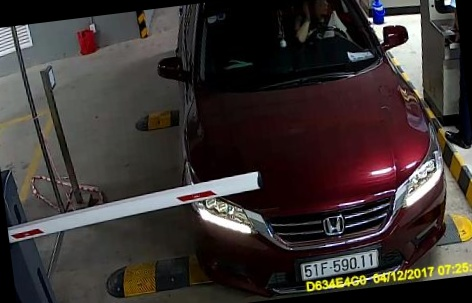plate: (288, 248, 379, 278)
